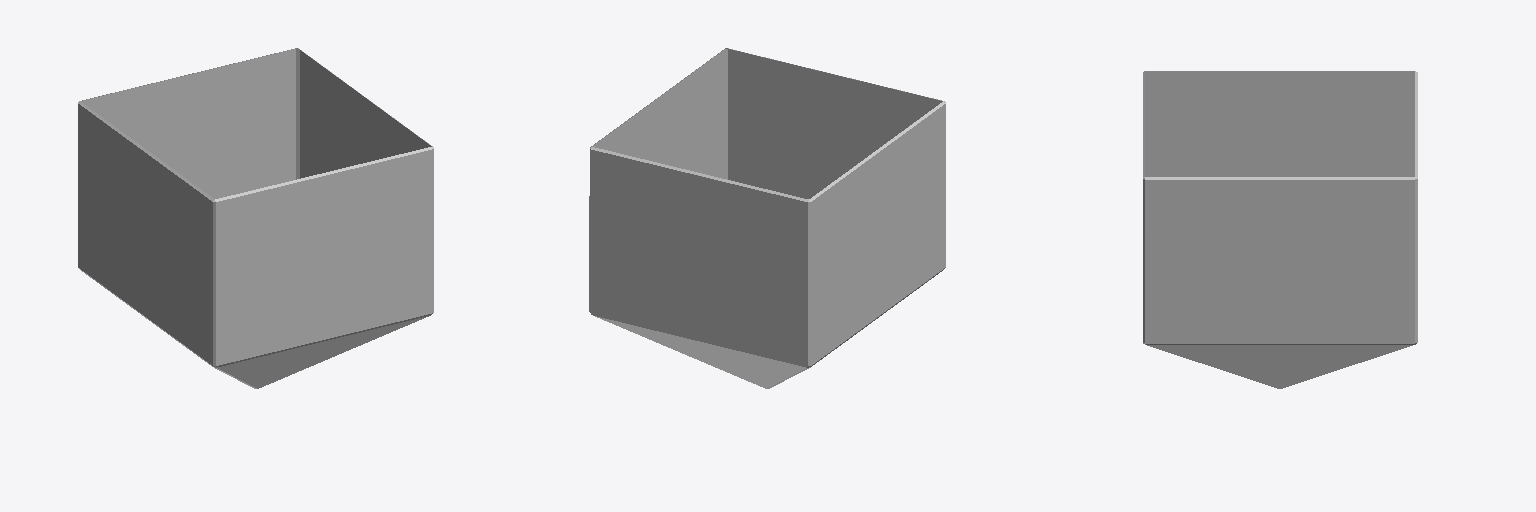
The model's file is RnD.obj.
3 renders of one model, left to right at view 1: azimuth 30°, elevation 25°; view 2: azimuth 150°, elevation 25°; view 3: azimuth 270°, elevation 25°, orthographic.
Size of the model in its own units: 2.23 by 2.54 by 2.39.